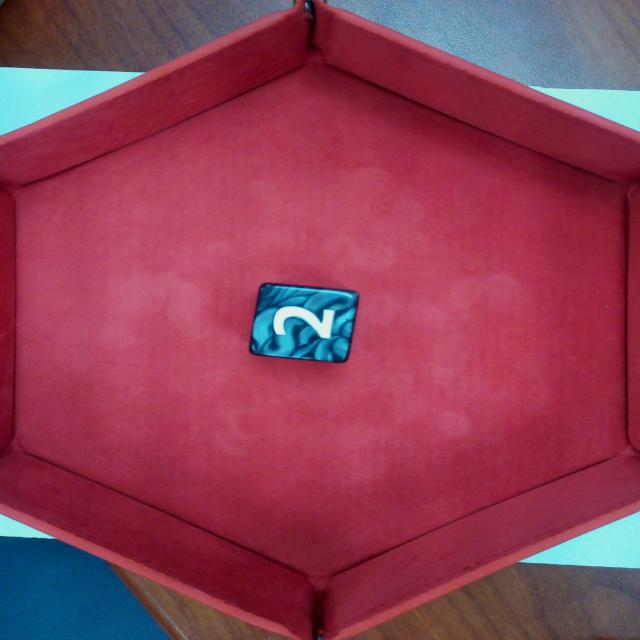dice: (246, 280, 361, 365)
